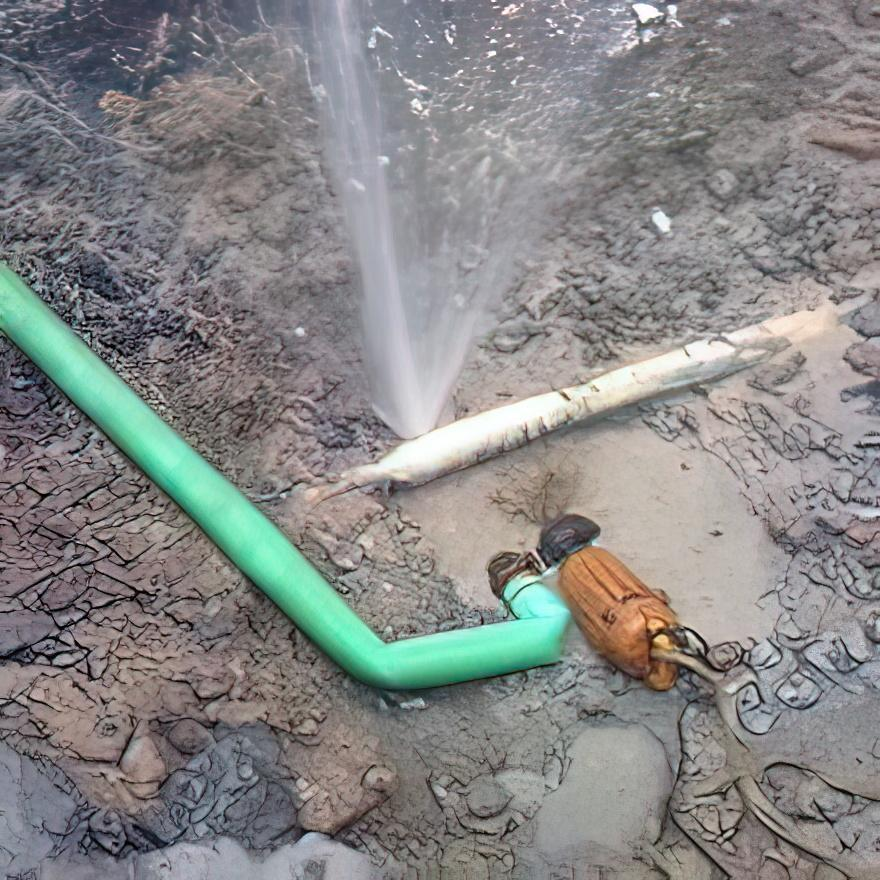pipe burst: (297, 0, 611, 449)
